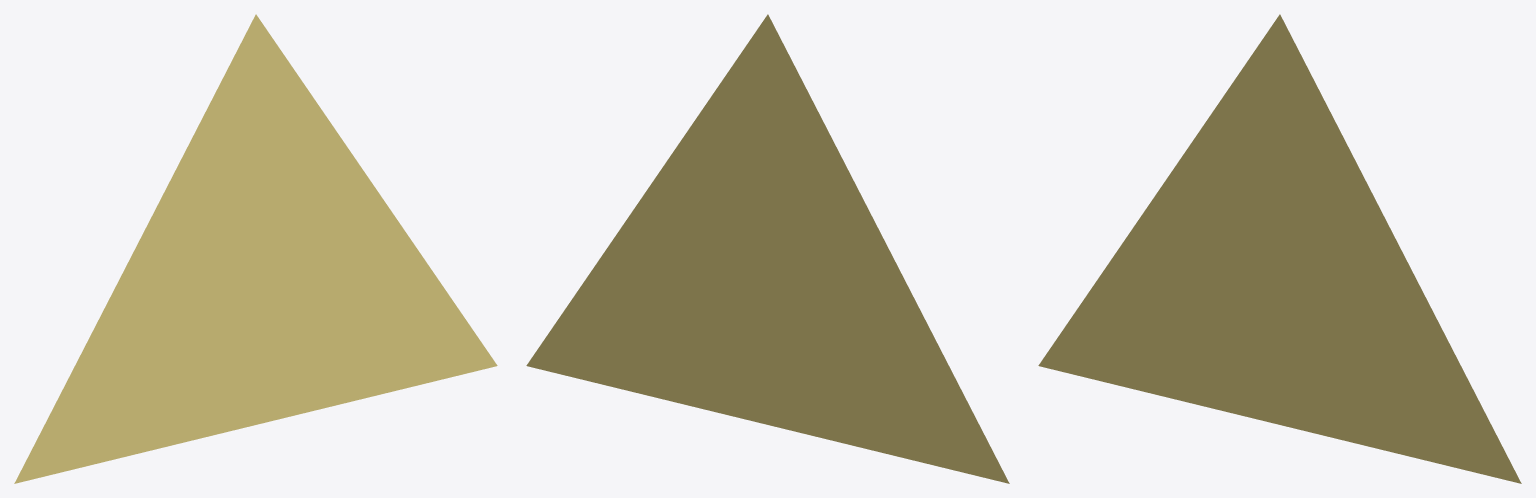
The model's file is Triangle Particle.fbx.
3 renders of one model, left to right at view 1: azimuth 30°, elevation 25°; view 2: azimuth 150°, elevation 25°; view 3: azimuth 330°, elevation 25°, orthographic.
Visible parts, largest first — view 1: Triangle Particle; view 2: Triangle Particle; view 3: Triangle Particle.
Part boxes in pixels (bbox=[...]): Triangle Particle: bbox=[14, 14, 497, 483]; Triangle Particle: bbox=[526, 14, 1009, 483]; Triangle Particle: bbox=[1038, 14, 1521, 483].
Bounding box in the file's own units: 0.0663 × 0.0538 × 3.44e-08.
